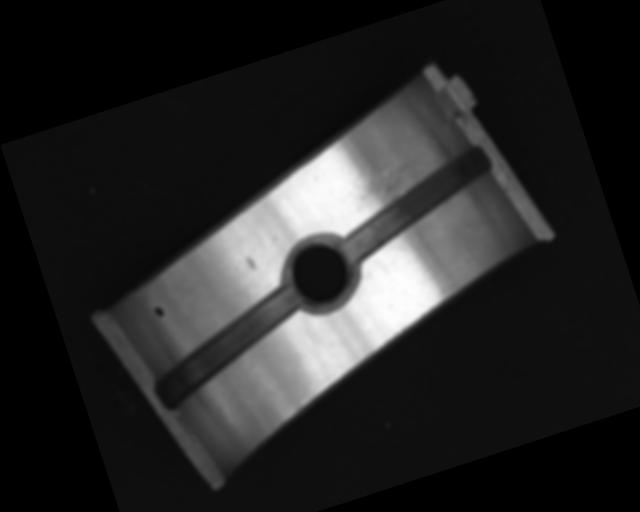blot: (152, 303, 166, 319)
bruise: (246, 255, 257, 271)
gap: (136, 283, 319, 410), (324, 142, 508, 265)
hole: (274, 229, 364, 319)
scratch: (337, 141, 439, 215)
